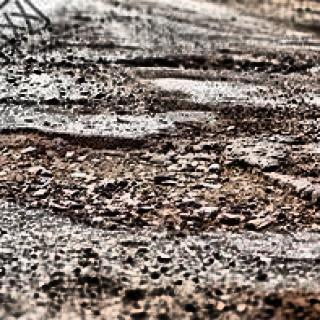pothole: (0, 132, 320, 247), (109, 46, 320, 79)
